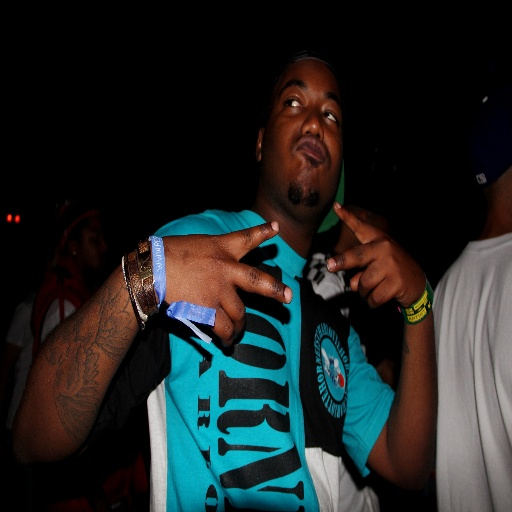hand: (144, 220, 293, 350), (323, 198, 416, 333)
